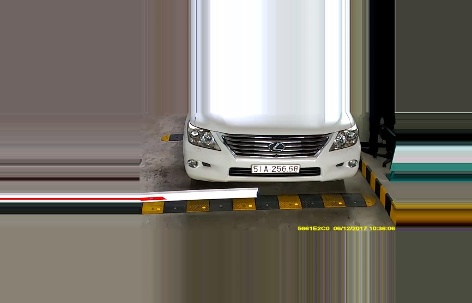plate: (249, 162, 305, 175)
